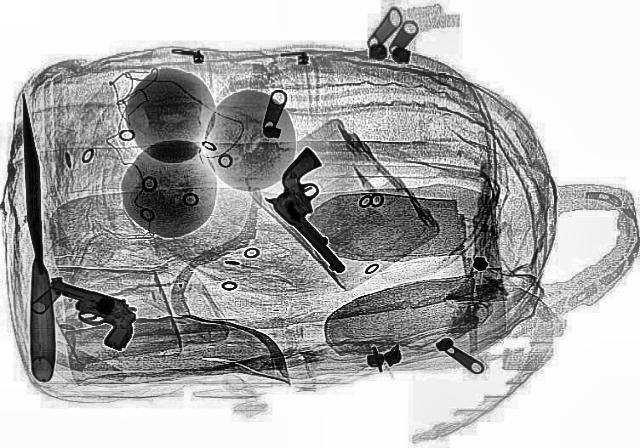Gun: (240, 146, 402, 274), (22, 277, 154, 351)
Knife: (12, 93, 58, 380)
